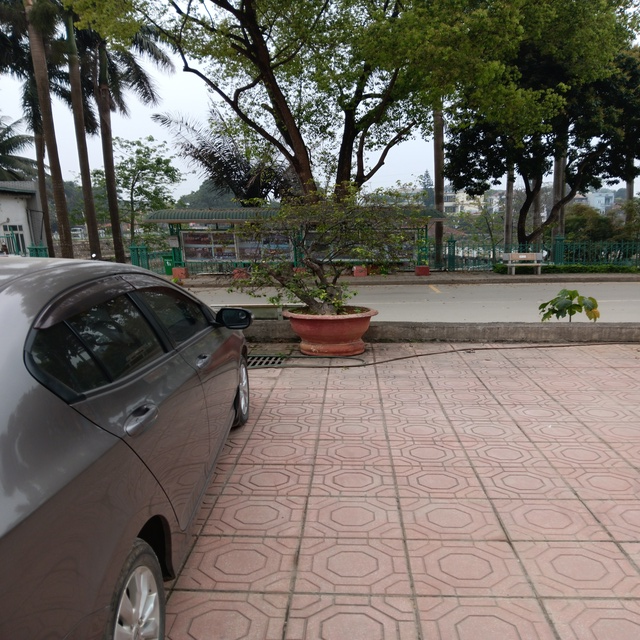caycanh: (256, 190, 396, 367)
